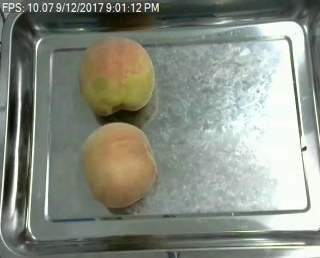Peach: (84, 122, 157, 208), (79, 36, 155, 116)
